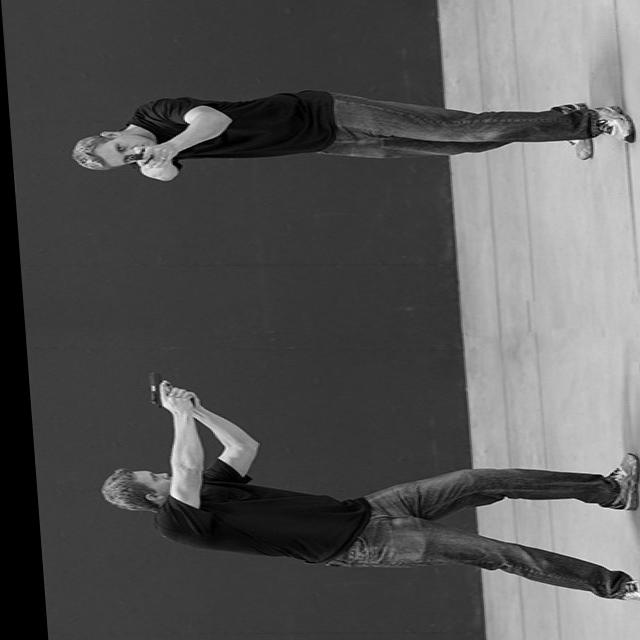handgun: (136, 367, 185, 420), (115, 152, 165, 171)
